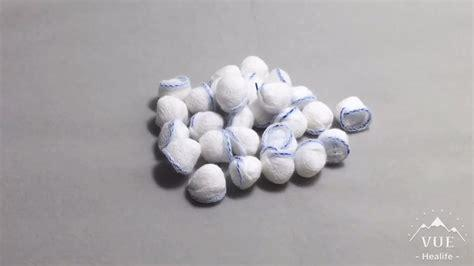cotton: (186, 158, 225, 206), (259, 145, 296, 188), (164, 134, 200, 176), (226, 118, 261, 161), (334, 95, 372, 132), (213, 78, 254, 111), (297, 97, 332, 134), (296, 139, 326, 180), (200, 129, 233, 166), (155, 116, 187, 154), (273, 104, 308, 137), (266, 124, 298, 160), (156, 95, 189, 128), (231, 155, 262, 190), (259, 80, 292, 112), (192, 105, 224, 137), (227, 101, 256, 134), (157, 74, 191, 102), (321, 130, 349, 160), (184, 87, 215, 114), (210, 64, 243, 88), (244, 55, 269, 83), (283, 86, 313, 107), (260, 70, 292, 84)
